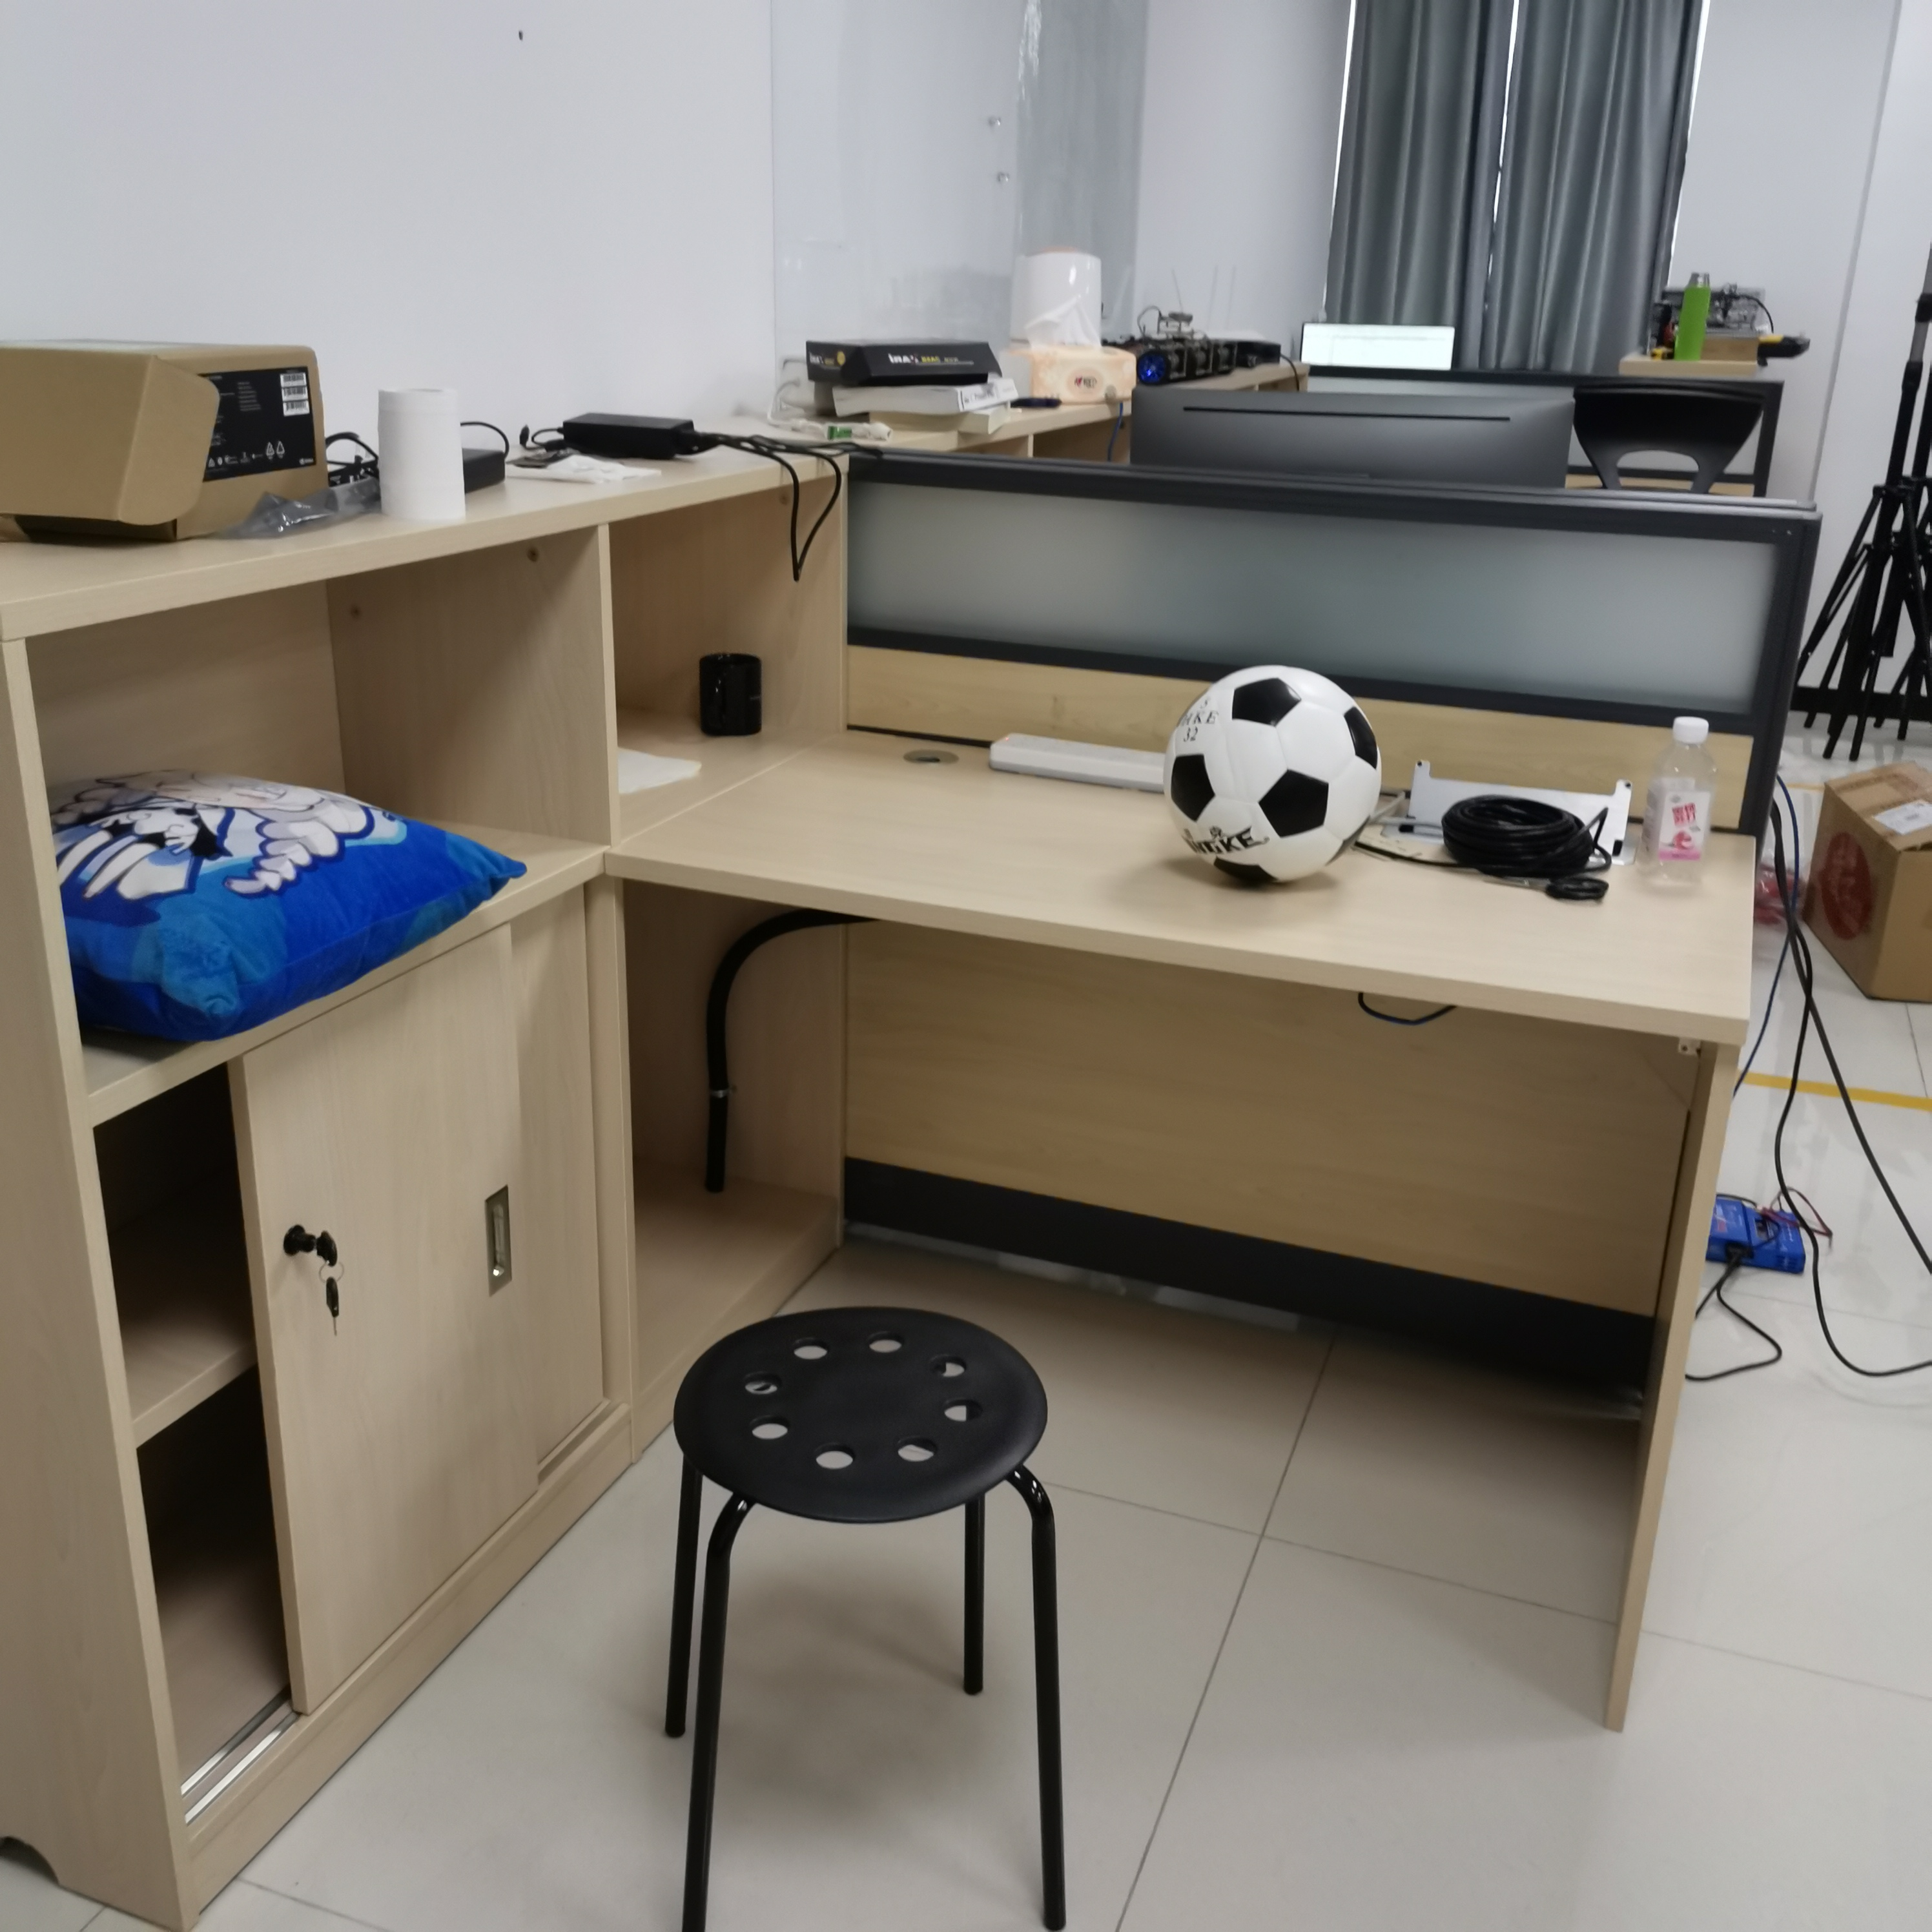football: (1162, 665, 1382, 890)
